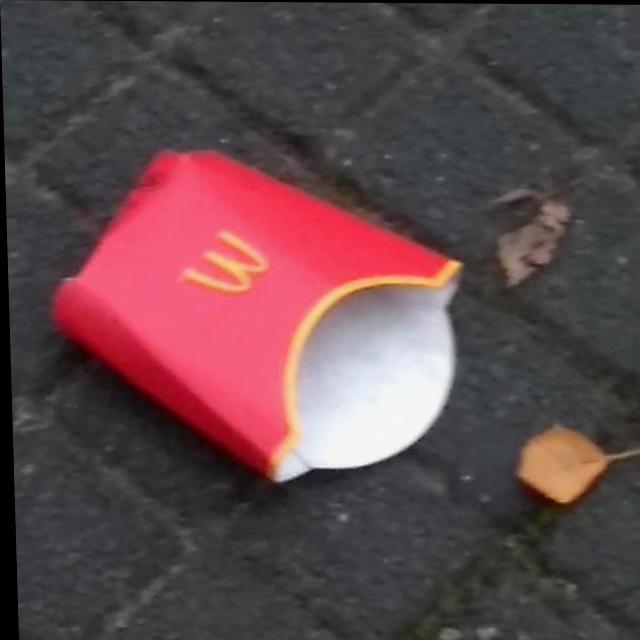Paper: (42, 139, 475, 489)
